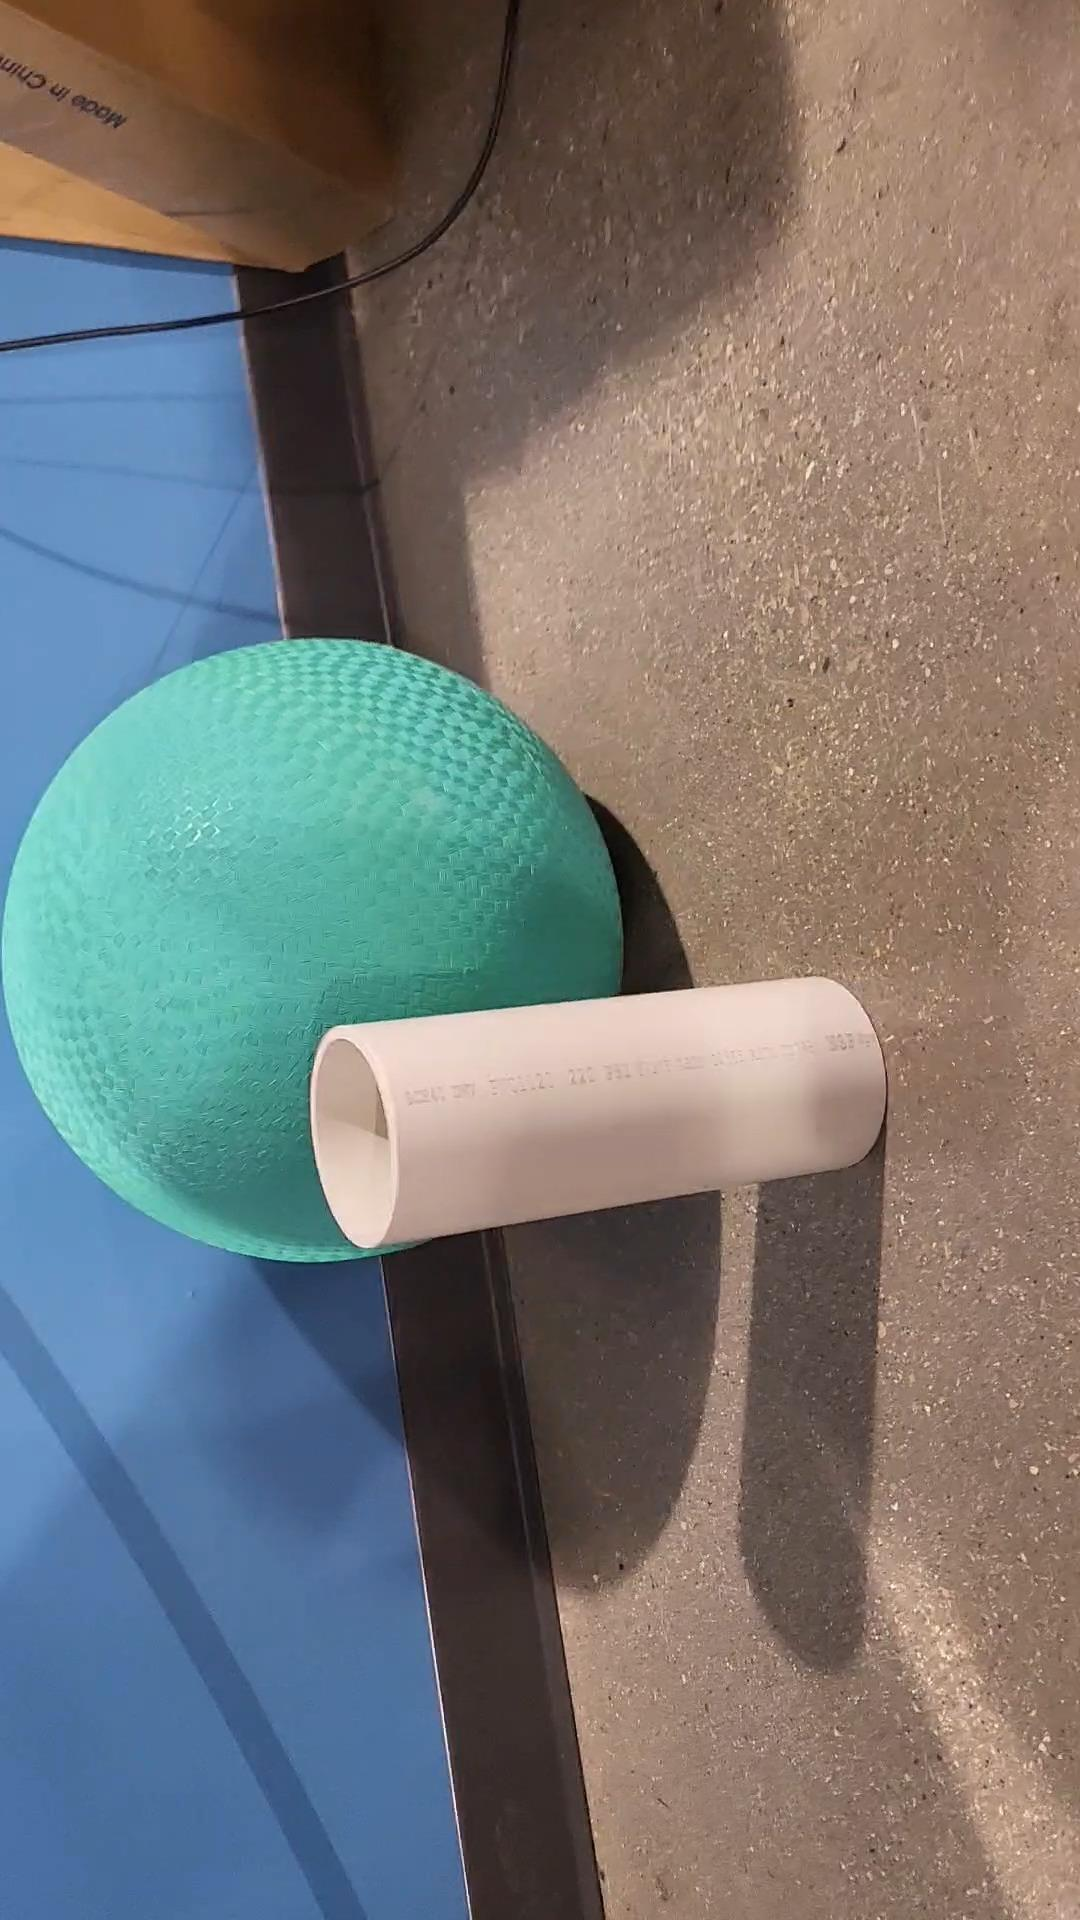algae: (0, 638, 626, 1269)
coral: (313, 975, 882, 1245)
